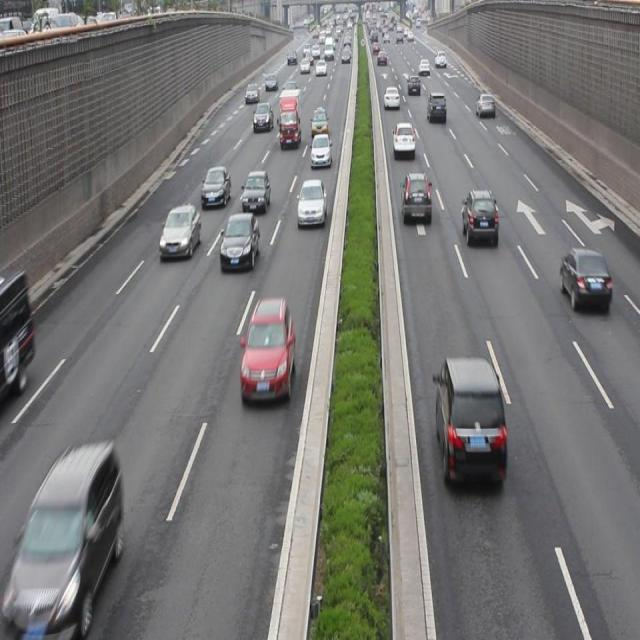bus: (278, 87, 300, 149)
car: (434, 355, 508, 485), (238, 297, 294, 403), (560, 245, 610, 311), (220, 212, 259, 273), (159, 204, 200, 258), (463, 187, 498, 249), (402, 171, 432, 224), (297, 178, 326, 228), (200, 166, 230, 209), (242, 170, 270, 212), (309, 131, 332, 169), (392, 121, 415, 156), (253, 100, 274, 132), (426, 90, 446, 122), (310, 106, 328, 135), (476, 92, 494, 118)
truck: (19, 441, 120, 626)
